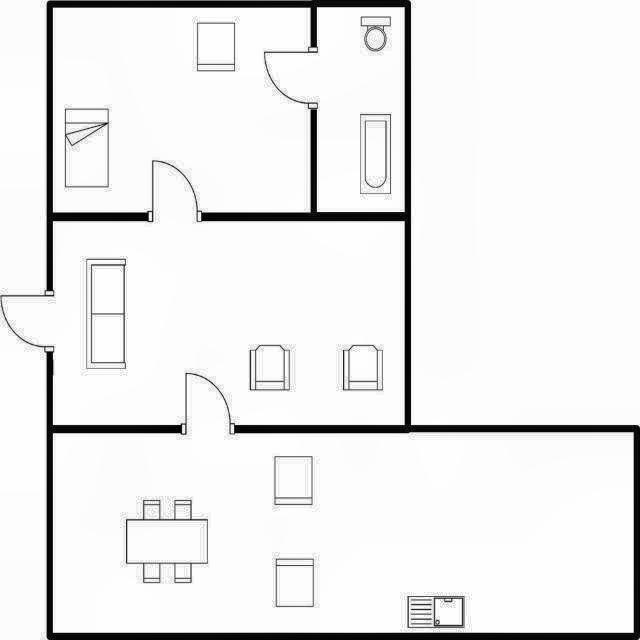room: (53, 433, 634, 633), (53, 221, 405, 425), (53, 8, 311, 212), (317, 7, 405, 212)
